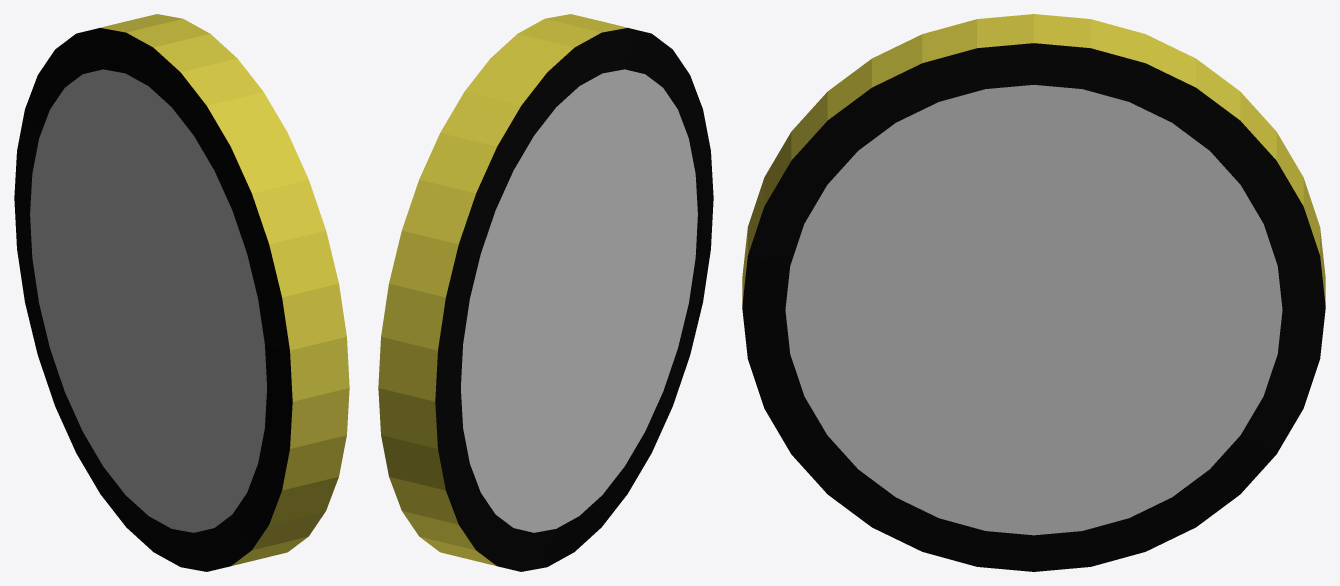
Rendered from mystery_key_1.fbx.
3 views of the same model, side by side, from view 1: azimuth 30°, elevation 25°; view 2: azimuth 150°, elevation 25°; view 3: azimuth 270°, elevation 25° (orthographic). The views are drawn at different scales.
Visible parts, largest first — view 1: Cylinder; view 2: Cylinder; view 3: Cylinder.
Part boxes in pixels (left/top/right/bottom): Cylinder: left=14, top=14, right=349, bottom=571; Cylinder: left=378, top=14, right=713, bottom=571; Cylinder: left=742, top=14, right=1325, bottom=571.
Bounding box in the file's own units: 27.71 × 200 × 200.
